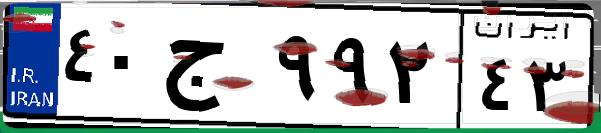0: (110, 28, 158, 98)
2: (385, 28, 445, 110)
3: (525, 38, 570, 115)
4: (57, 26, 110, 100), (475, 38, 525, 113)
9: (270, 28, 330, 110), (330, 28, 385, 110)
ج: (158, 20, 270, 120)
